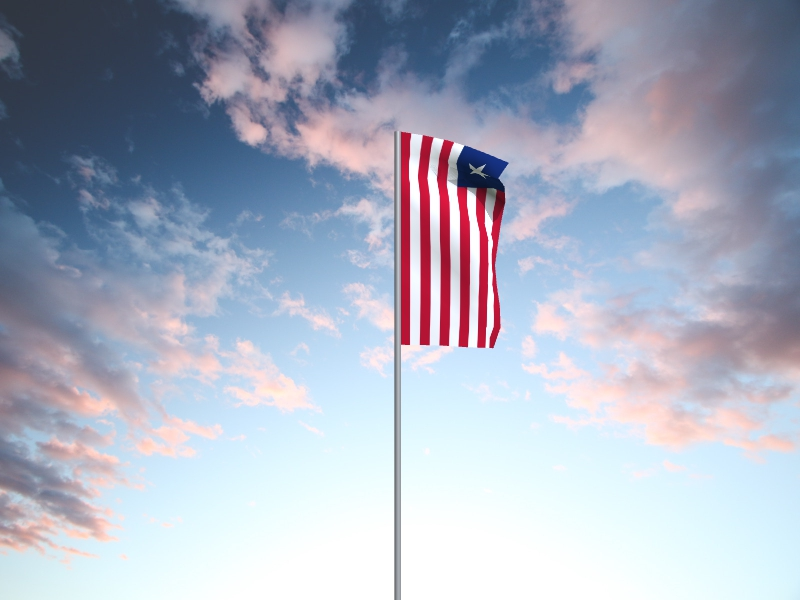lr: (401, 132, 510, 350)
